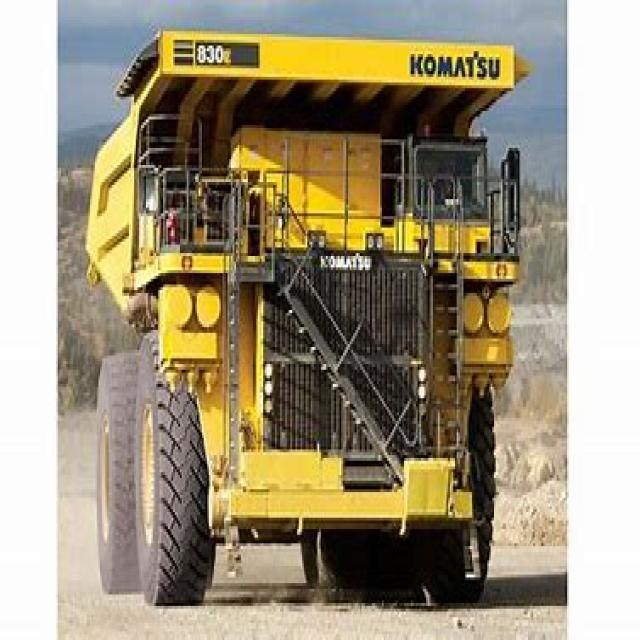dump_truck: (73, 26, 533, 617)
